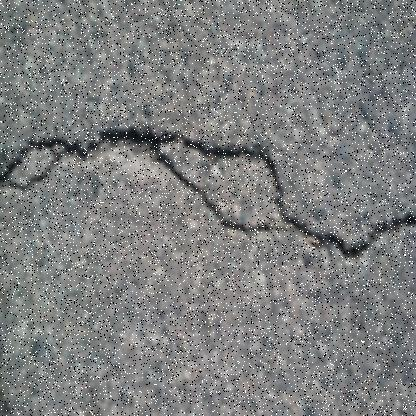Cracks: (0, 112, 415, 267)
